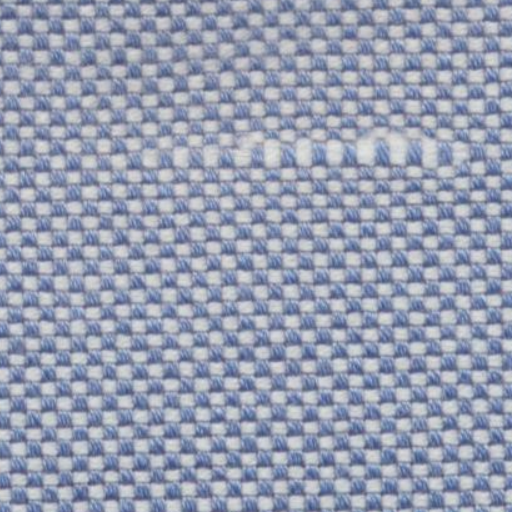DaiSha: (160, 130, 497, 186)
